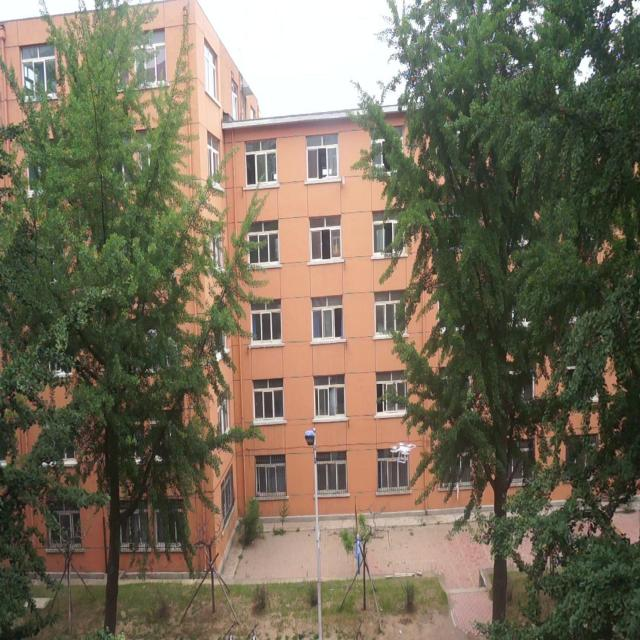UAV: (390, 442, 416, 464)
